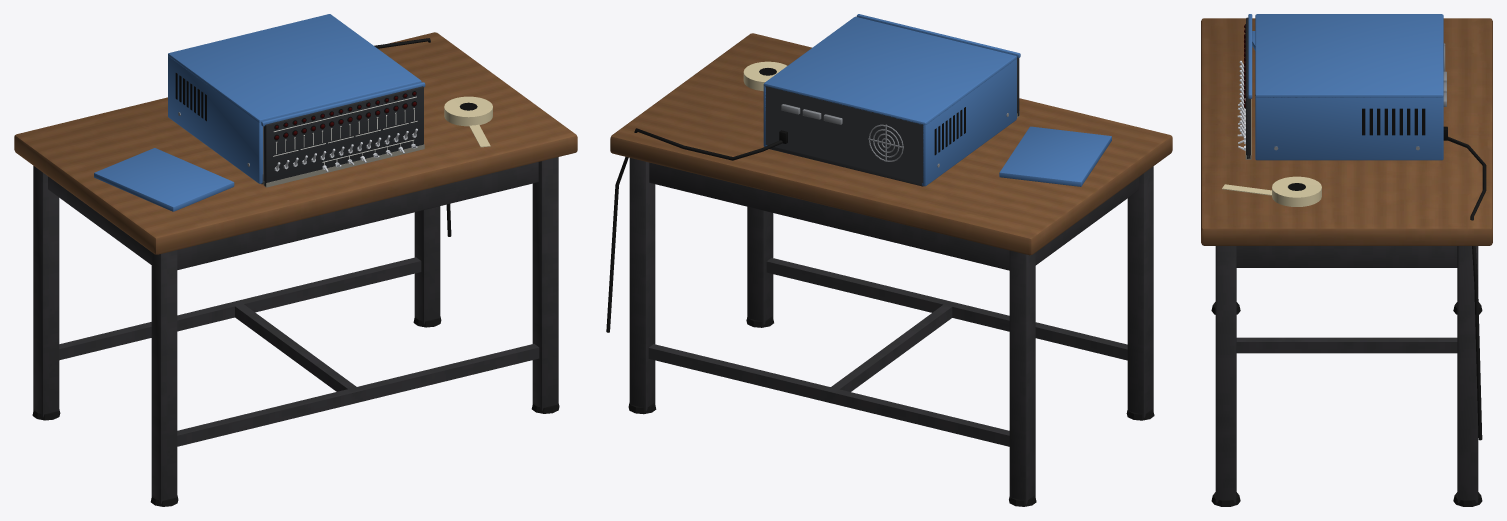
Rendered from altair.glb.
3 renders of one model, left to right at view 1: azimuth 30°, elevation 25°; view 2: azimuth 150°, elevation 25°; view 3: azimuth 270°, elevation 25°, orthographic. The views are drawn at different scales.
Visible parts, largest first — view 1: deskTable, caseBody, deskItems; view 2: deskTable, caseBody, deskItems; view 3: deskTable, caseBody, deskItems.
Boxes of the visible parts, left/top/right/bottom form: deskTable: left=14, top=32, right=577, bottom=506; caseBody: left=168, top=14, right=425, bottom=187; deskItems: left=94, top=38, right=492, bottom=236; deskTable: left=610, top=33, right=1172, bottom=506; caseBody: left=763, top=14, right=1020, bottom=186; deskItems: left=606, top=61, right=1111, bottom=332; deskTable: left=1201, top=18, right=1492, bottom=506; caseBody: left=1237, top=14, right=1447, bottom=160; deskItems: left=1222, top=31, right=1486, bottom=440.
Bounding box in the file's own units: 1.22 × 0.931 × 0.7.
Materials: 13 (4 with a texture image).
